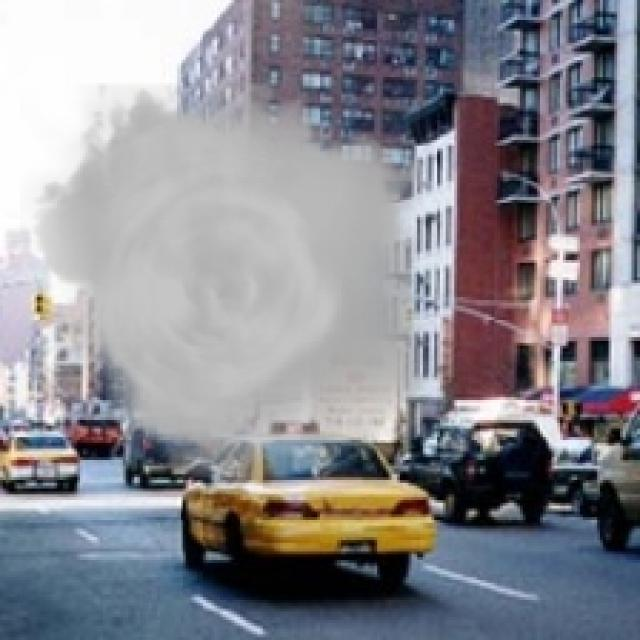Smoke: (20, 83, 446, 486)
